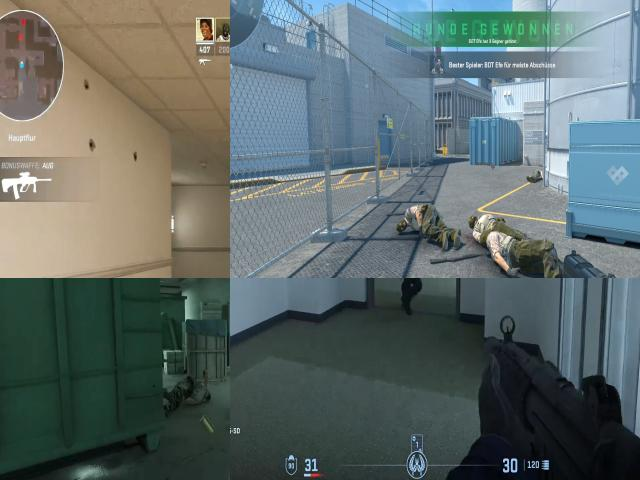Dead: (479, 227, 568, 278), (398, 202, 461, 247), (161, 372, 230, 406), (469, 212, 533, 244), (528, 168, 544, 182)
